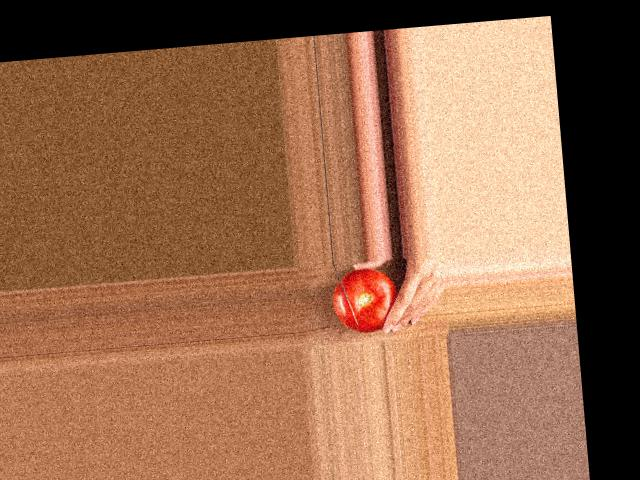tomato: (331, 266, 400, 334)
